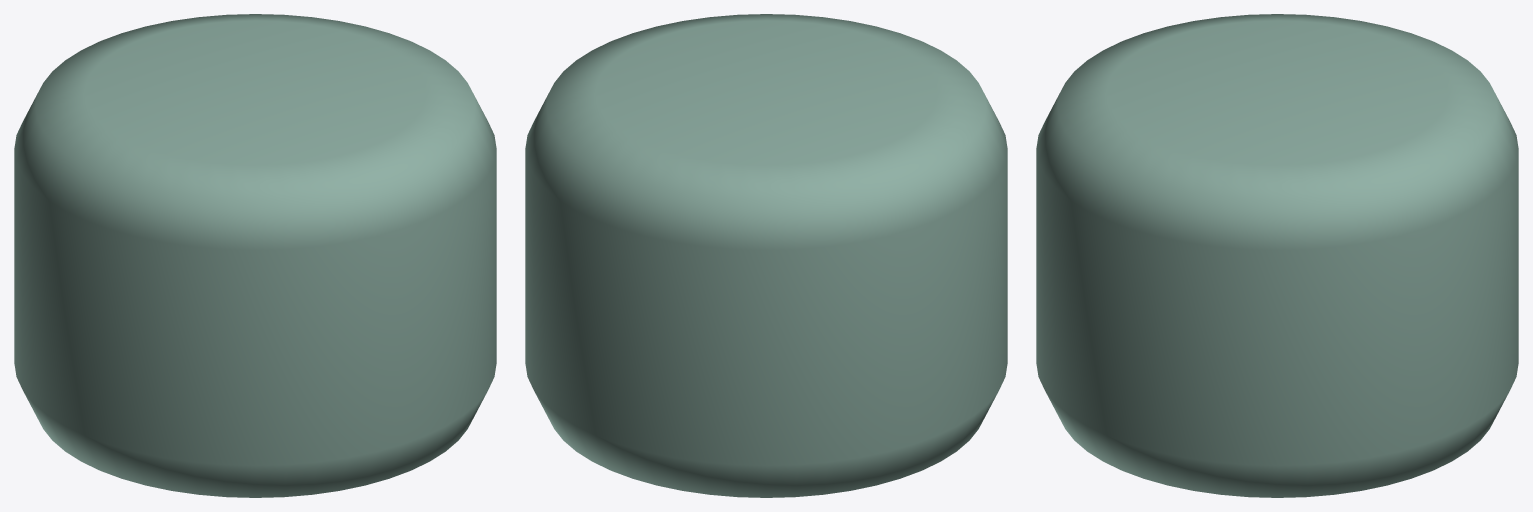
Rendered from stool.glb.
3 renders of one model, left to right at view 1: azimuth 30°, elevation 25°; view 2: azimuth 150°, elevation 25°; view 3: azimuth 270°, elevation 25°, orthographic.
Parts seen in each view (by area): view 1: single-ottoman-casing; view 2: single-ottoman-casing; view 3: single-ottoman-casing.
Boxes of the visible parts, <box> form: single-ottoman-casing: <box>14,14,496,497</box>; single-ottoman-casing: <box>525,14,1007,497</box>; single-ottoman-casing: <box>1036,14,1518,497</box>.
Size of the model in its own units: 0.79 by 0.5893 by 0.79.
